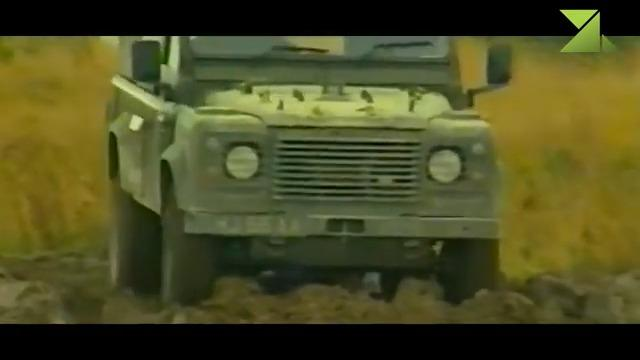MIL_HMMWV: (100, 37, 514, 308)
